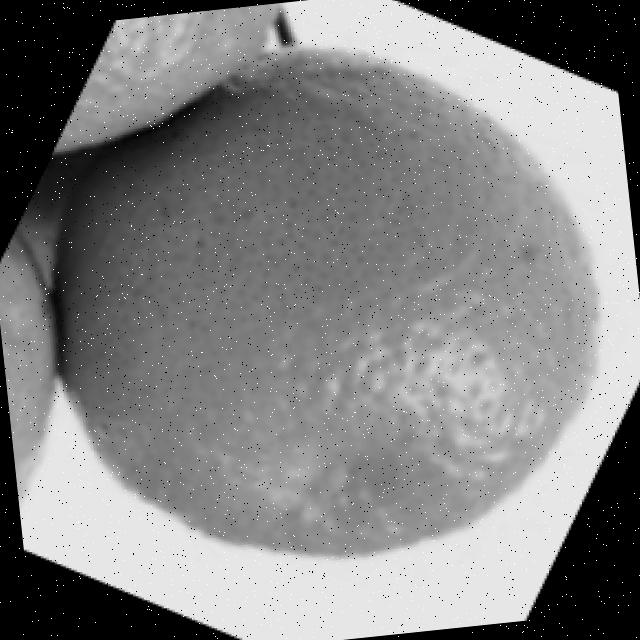orange: (28, 19, 627, 588)
